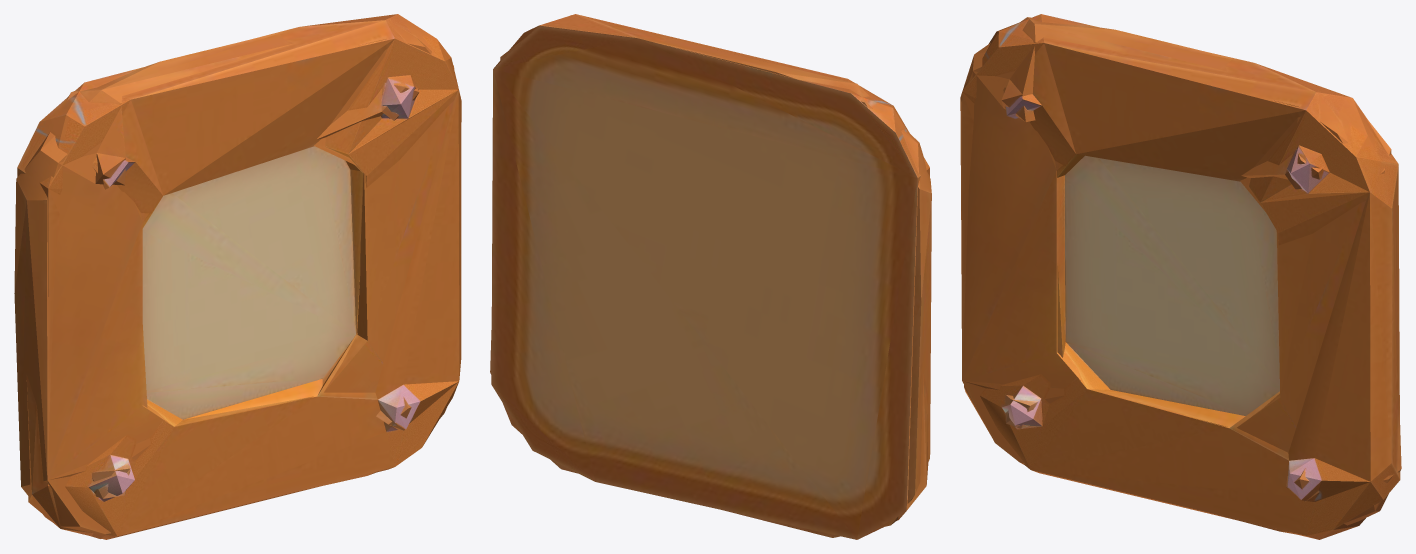
Rendered from placa-de-letra.glb.
The picture shows the model from 3 angles, left to right: view 1: azimuth 30°, elevation 25°; view 2: azimuth 150°, elevation 25°; view 3: azimuth 330°, elevation 25°; orthographic projection.
Size of the model in its own units: 1.9 by 1.9 by 0.2464.
Materials: 1 (1 with a texture image).
